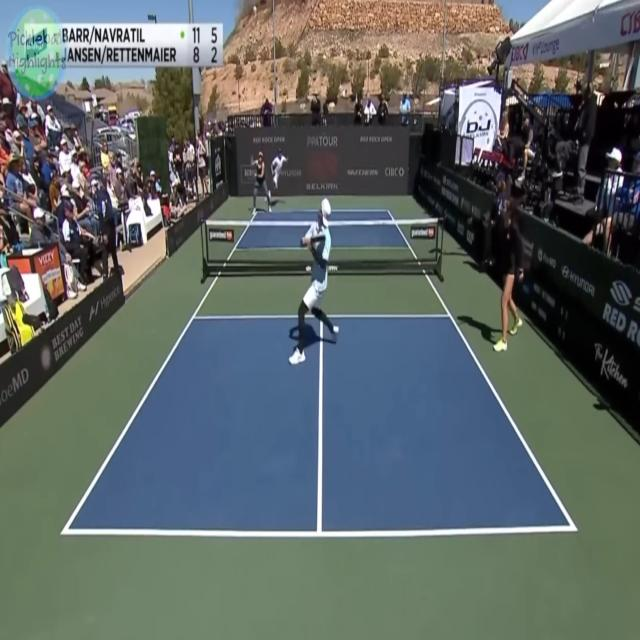ball: (252, 3, 260, 22)
